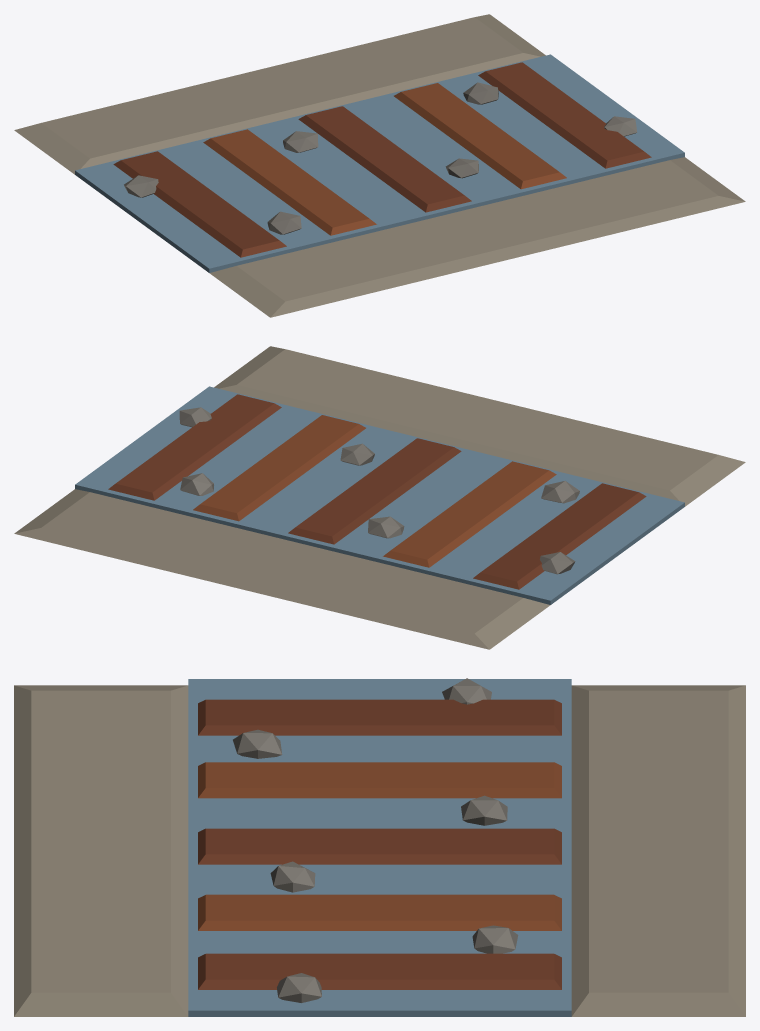
File: ford.glb
3 renders of one model, top to bottom at view 1: azimuth 30°, elevation 25°; view 2: azimuth 150°, elevation 25°; view 3: azimuth 270°, elevation 25°, orthographic. The views are drawn at different scales.
Parts seen in each view (by area): view 1: ford; view 2: ford; view 3: ford.
Part boxes in pixels (<box>): ford: <box>14,14,745,317</box>; ford: <box>14,346,745,649</box>; ford: <box>14,678,745,1016</box>.
Size of the model in its own units: 9 by 0.3075 by 8.4.
